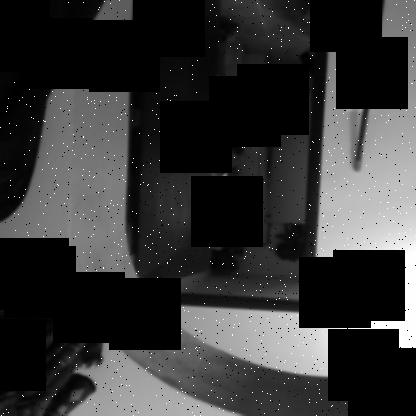Porte: (120, 1, 332, 312)
